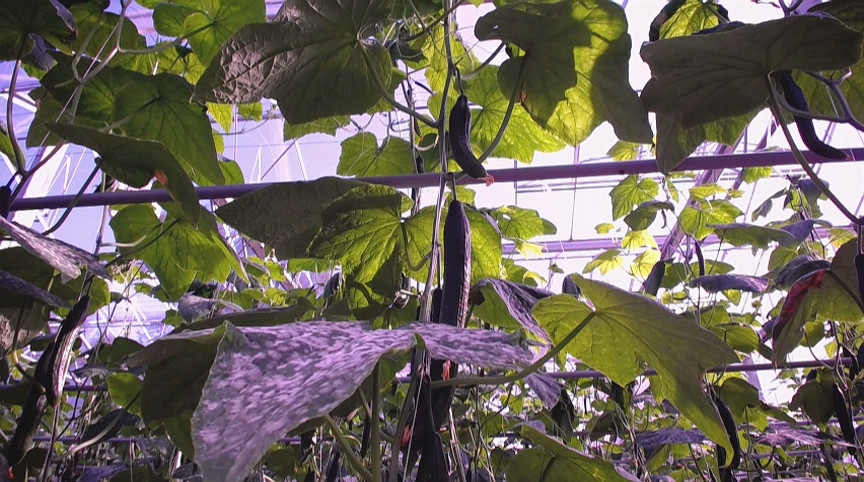cucumber: (7, 343, 58, 471), (780, 76, 848, 160), (46, 294, 92, 408), (442, 198, 473, 330), (448, 93, 487, 179), (829, 381, 856, 452), (418, 432, 451, 482)
